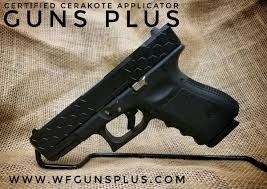gun: (31, 25, 240, 164)
